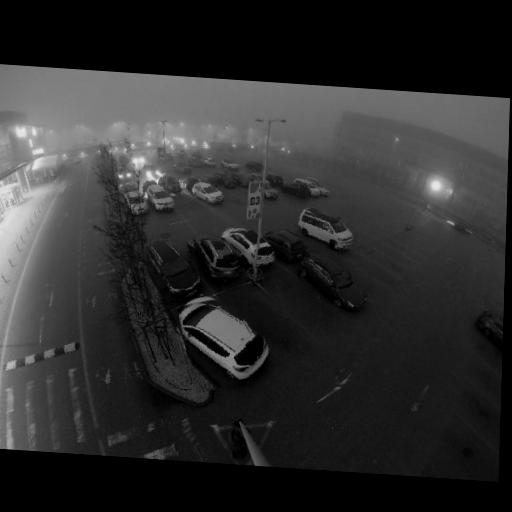busy: (179, 289, 278, 394), (299, 254, 368, 309), (144, 238, 203, 301), (189, 235, 245, 286), (299, 207, 357, 251), (223, 227, 277, 269), (477, 310, 504, 369), (266, 229, 310, 263), (189, 178, 227, 208), (145, 184, 177, 214), (292, 178, 325, 198), (280, 182, 310, 199), (161, 174, 186, 194)
free: (242, 300, 286, 341), (287, 285, 323, 320), (343, 259, 373, 286), (177, 195, 200, 214), (224, 191, 245, 206)
